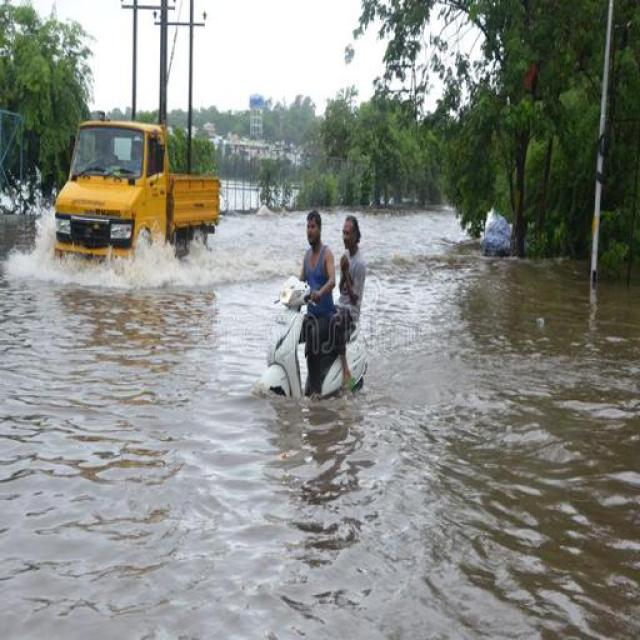puddle: (387, 270, 640, 635), (5, 273, 250, 635), (172, 433, 477, 637), (375, 207, 459, 396), (233, 219, 301, 264)
